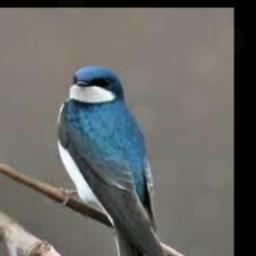Swallow: (56, 65, 174, 256)
